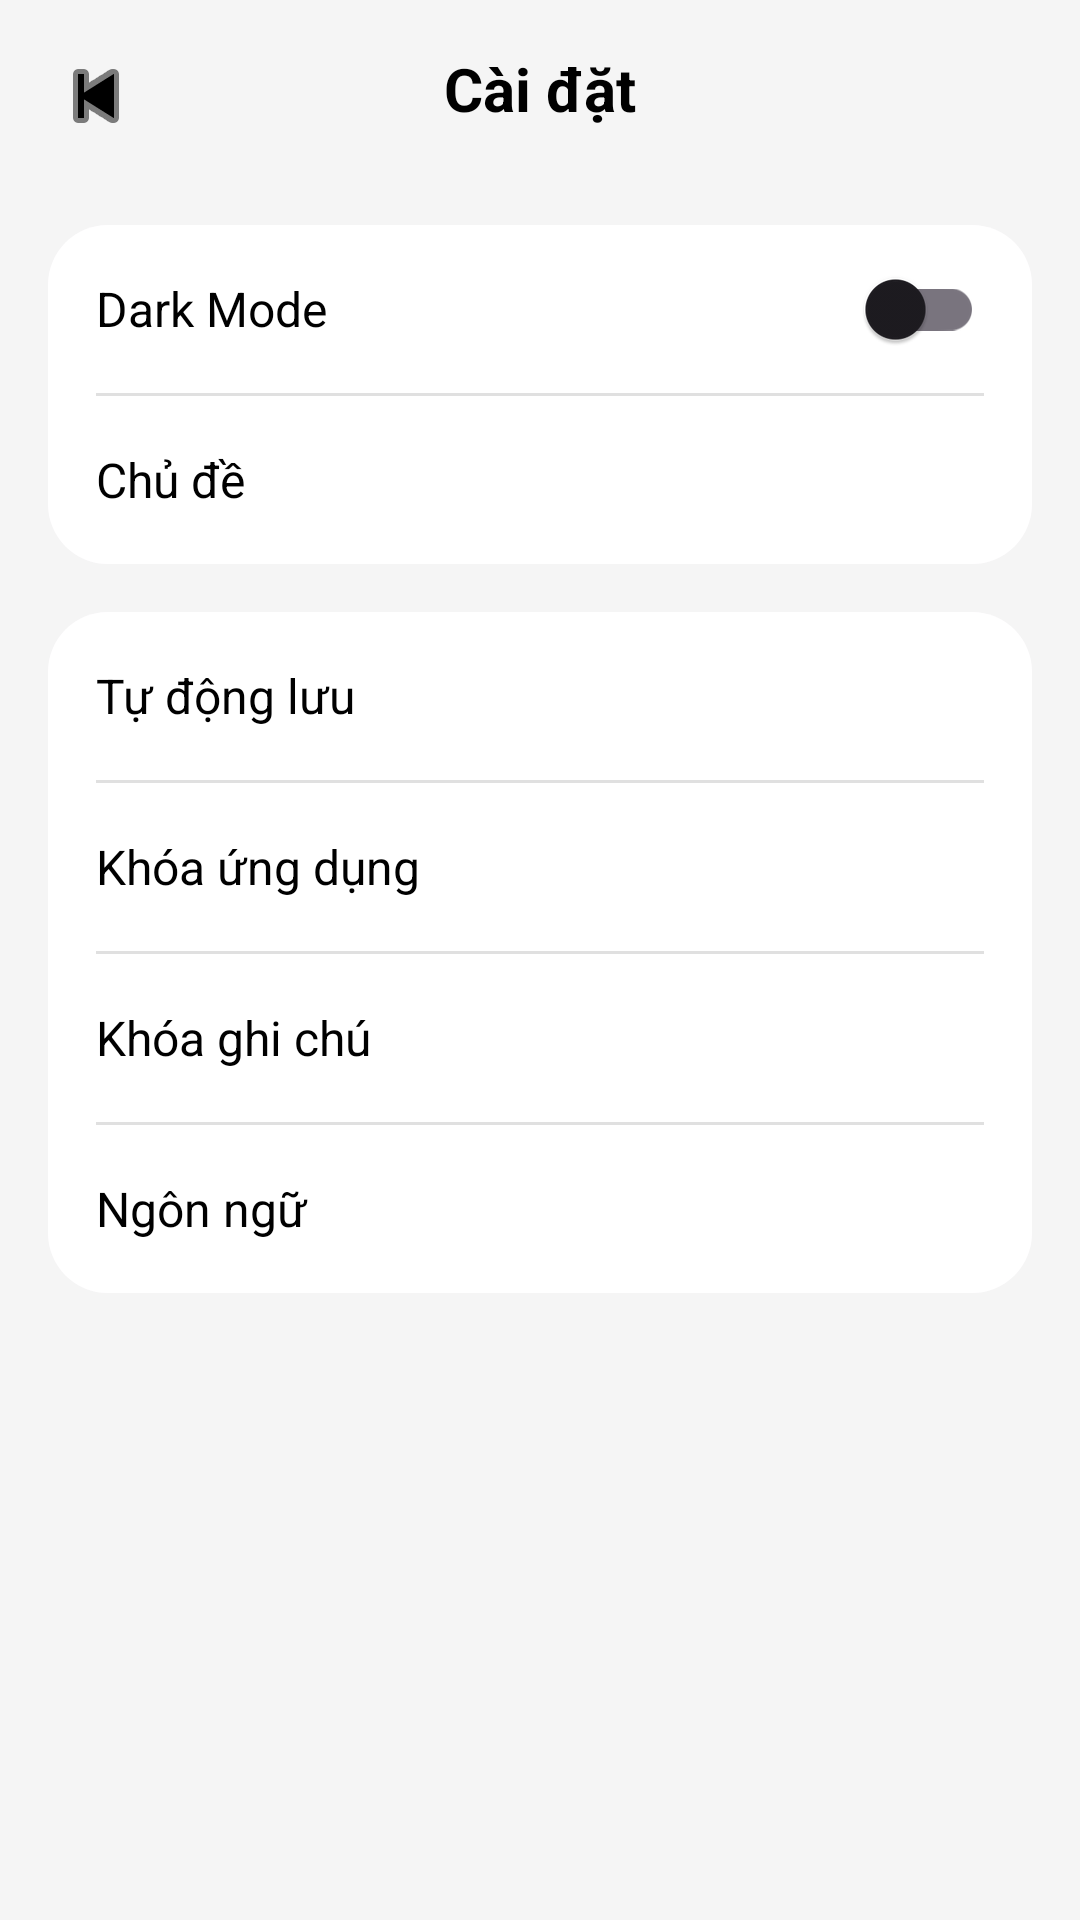

Screen size 1080px×1920px. Icon name, then its box in pixels as (x1, y1, x2, y2):
previous: (73, 69, 119, 123)
